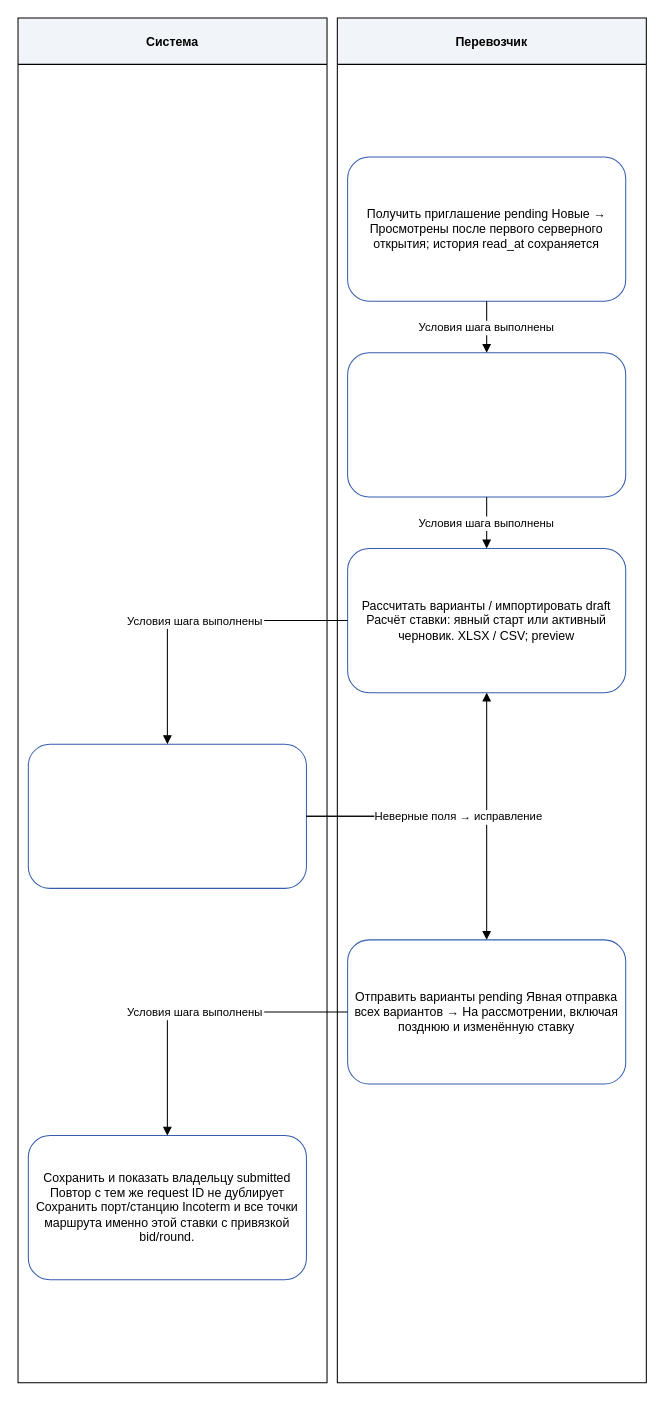
Image size: 664x1401. Some labels were removed from this diagram. The shapes that lost their labels are listed below. From the top down, each one's centre as x and y in pixels, then its label:
At point (486, 424): "Принять участие или отказаться participating / declined Отказ с причиной в срок".
At point (166, 815): "Проверить варианты valid / 400 Неверные ячейки не меняют форму частично".
